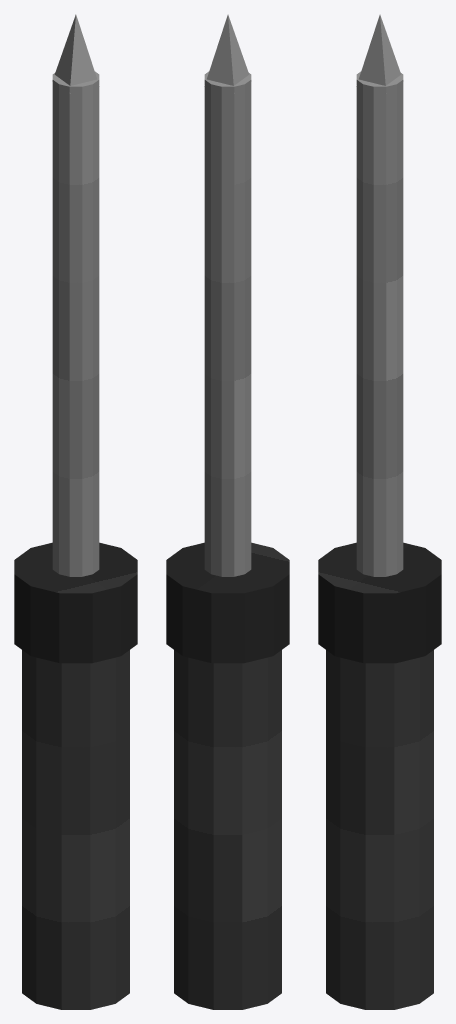
The model's file is screwdriver (1).fbx.
3 renders of one model, left to right at view 1: azimuth 30°, elevation 25°; view 2: azimuth 150°, elevation 25°; view 3: azimuth 330°, elevation 25°, orthographic.
Visible parts, largest first — view 1: cylinder, cylinder_1, cylinder_2, pyramid; view 2: cylinder, cylinder_1, cylinder_2, pyramid; view 3: cylinder, cylinder_1, cylinder_2, pyramid.
Boxes of the visible parts, box(x1,y1,x2,y2) form: cylinder: box(22, 650, 129, 1009); cylinder_1: box(52, 71, 99, 576); cylinder_2: box(14, 542, 137, 663); pyramid: box(54, 14, 99, 93); cylinder: box(174, 650, 281, 1009); cylinder_1: box(204, 71, 251, 576); cylinder_2: box(166, 542, 289, 663); pyramid: box(204, 14, 249, 93); cylinder: box(326, 650, 433, 1009); cylinder_1: box(356, 71, 403, 576); cylinder_2: box(318, 542, 441, 663); pyramid: box(356, 14, 401, 93).
Size of the model in its own units: 10 by 86.88 by 10.
Materials: 1 (1 with a texture image).
